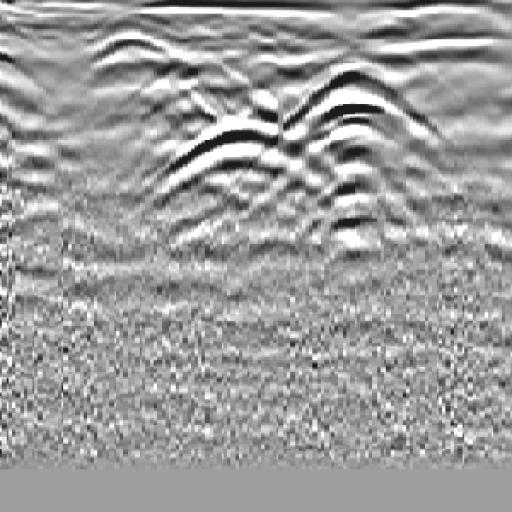metalic: (278, 41, 439, 270)
